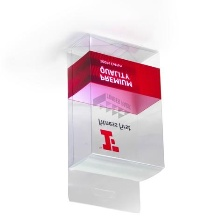plastic_box: (55, 28, 171, 219)
